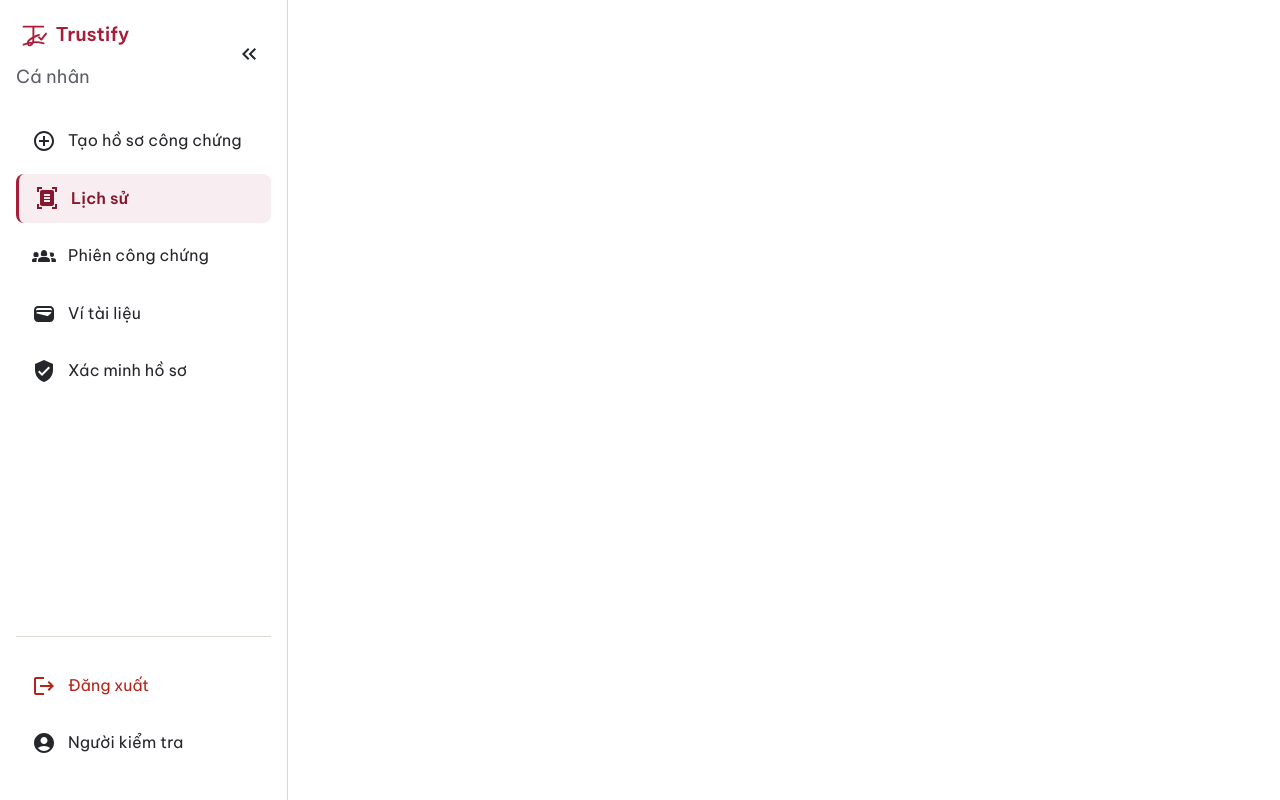
Test: logout cancellation retains the navigation and current route
This screenshot has width=1280, height=800.
Click the button "Đăng xuất" at (144, 686), box x1=16 y1=661 x2=271 y2=710
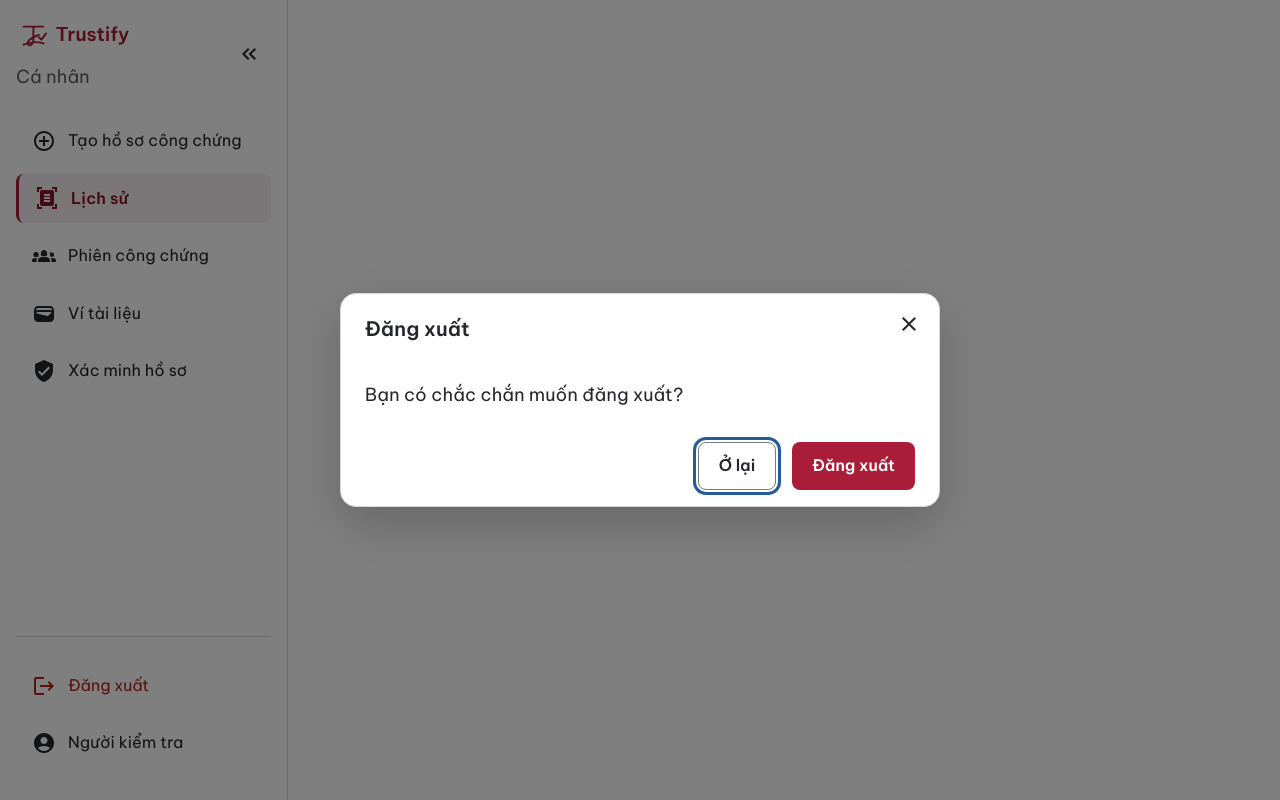
Click the button "Ở lại" at (737, 466), box x1=698 y1=442 x2=776 y2=490
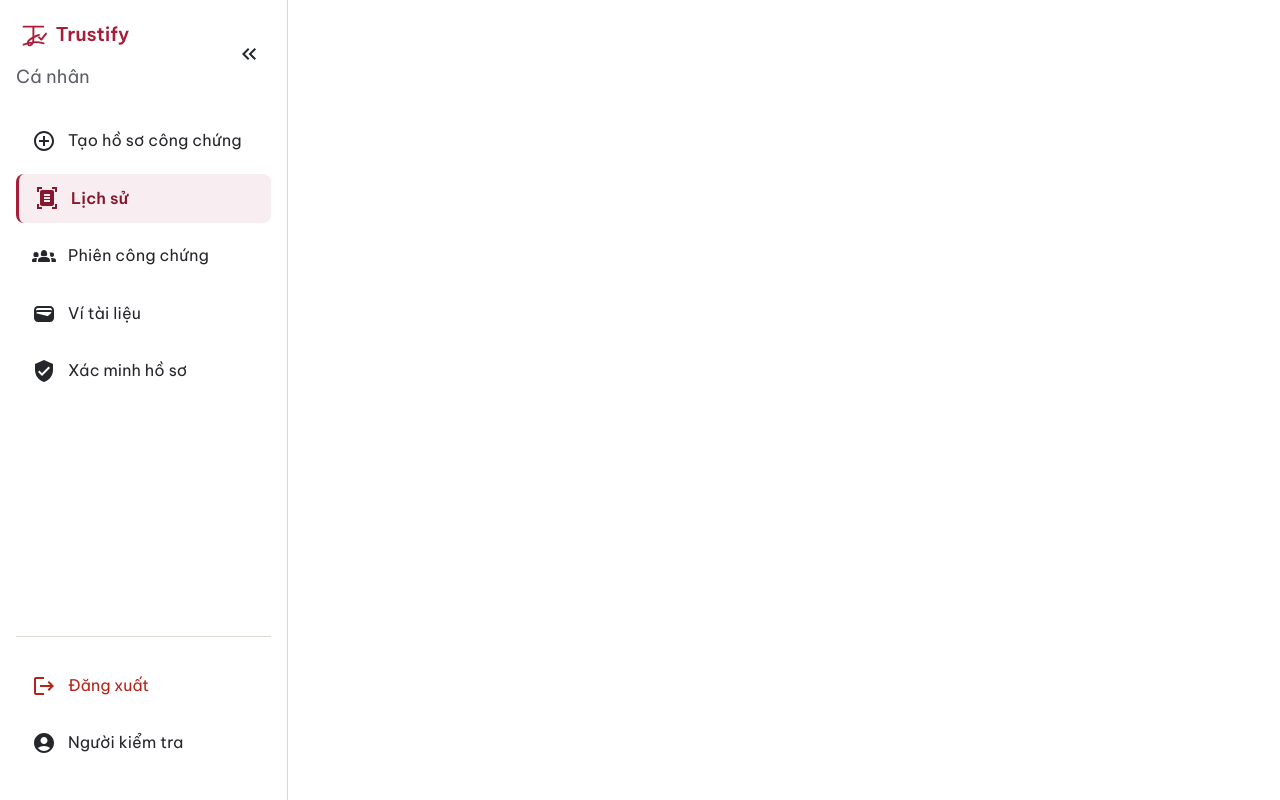
Now the dialog is gone
